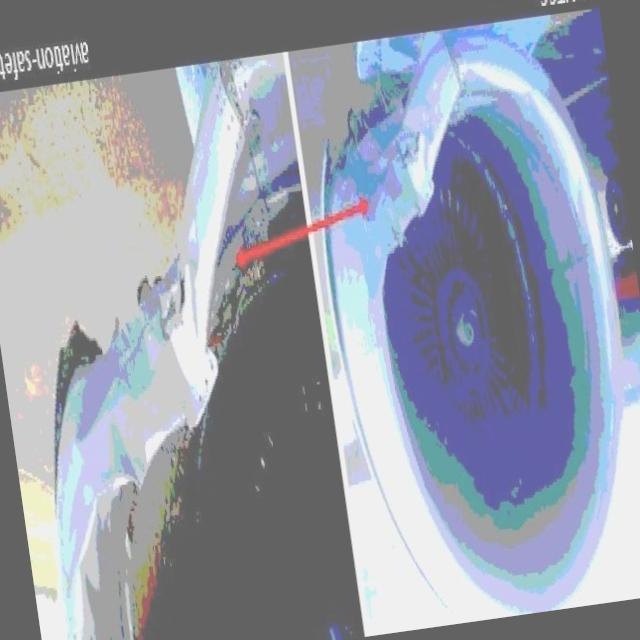dent: (152, 309, 206, 425), (104, 404, 146, 484)
